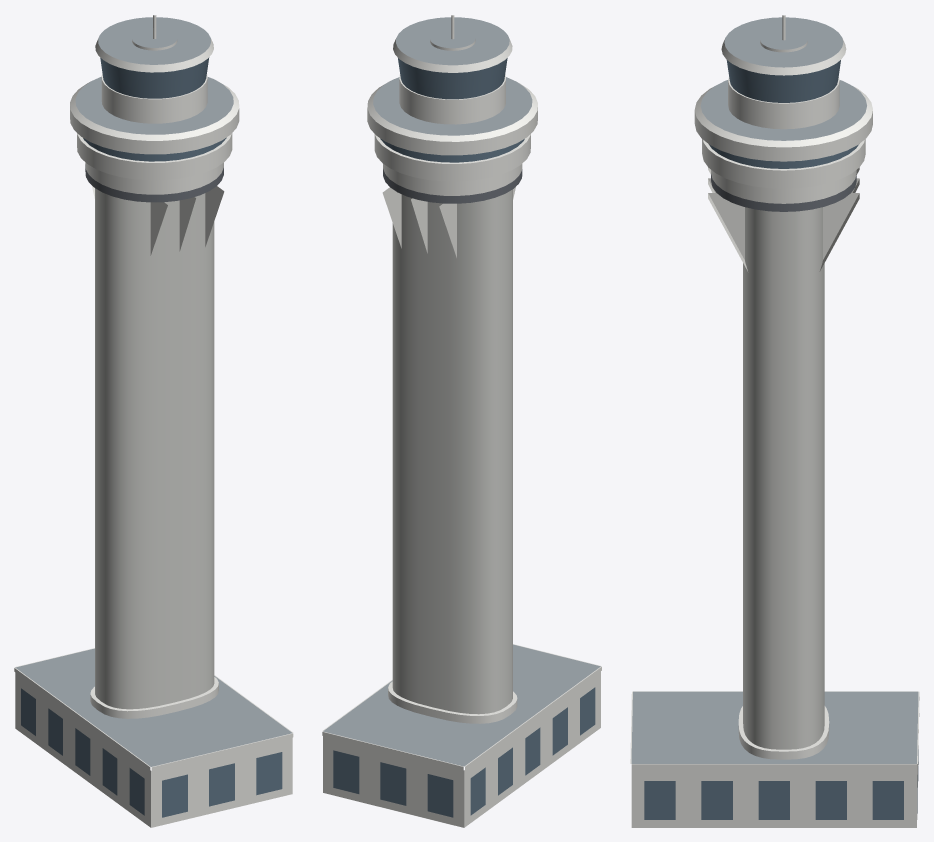
File: tokyo-haneda-control-tower.glb
3 renders of one model, left to right at view 1: azimuth 30°, elevation 25°; view 2: azimuth 150°, elevation 25°; view 3: azimuth 270°, elevation 25°, orthographic. The views are drawn at different scales.
Parts seen in each view (by area): view 1: Haneda Airport Control Tower; view 2: Haneda Airport Control Tower; view 3: Haneda Airport Control Tower.
Boxes of the visible parts, <box> form: Haneda Airport Control Tower: <box>14,15,293,827</box>; Haneda Airport Control Tower: <box>322,15,601,827</box>; Haneda Airport Control Tower: <box>630,15,919,827</box>.
Bounding box in the file's own units: 24.45 × 116 × 38.9.
